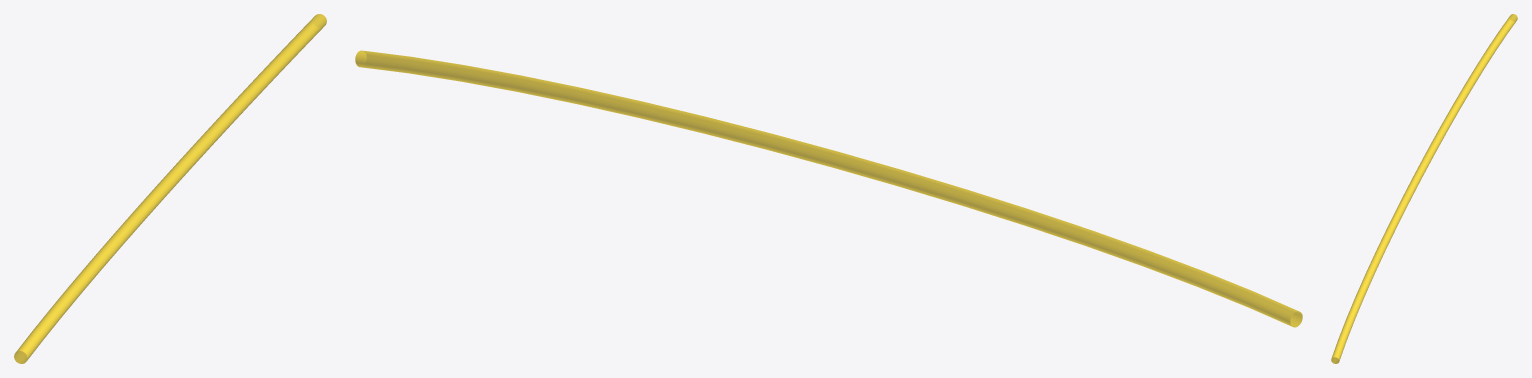
Rendered from Event_75125125_track_47.fbx.
3 views of the same model, side by side, from view 1: azimuth 90°, elevation 25°; view 2: azimuth 150°, elevation 25°; view 3: azimuth 270°, elevation 25° (orthographic). The views are drawn at different scales.
Parts seen in each view (by area): view 1: Model; view 2: Model; view 3: Model.
Part boxes in pixels (x1=…): Model: x1=14, y1=14, x2=326, y2=363; Model: x1=355, y1=50, x2=1302, y2=327; Model: x1=1331, y1=14, x2=1517, y2=363.
Size of the model in its own units: 3.05 by 0.4095 by 0.8819.
